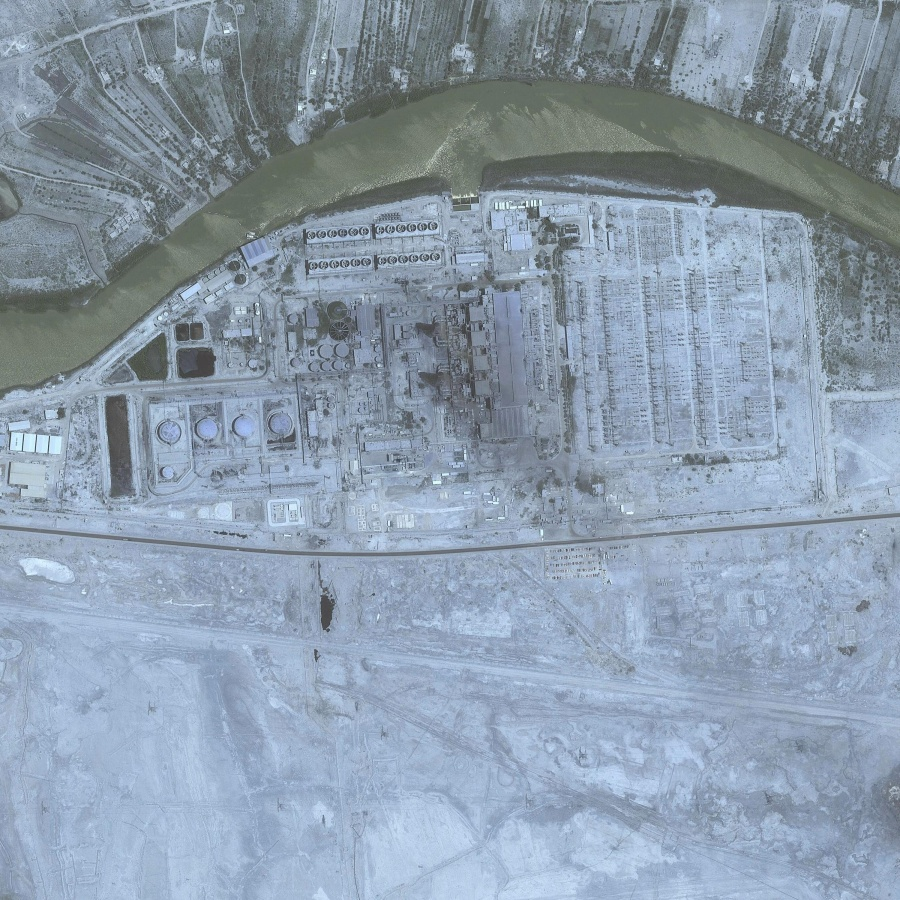PowerPlant: (82, 215, 582, 514)
